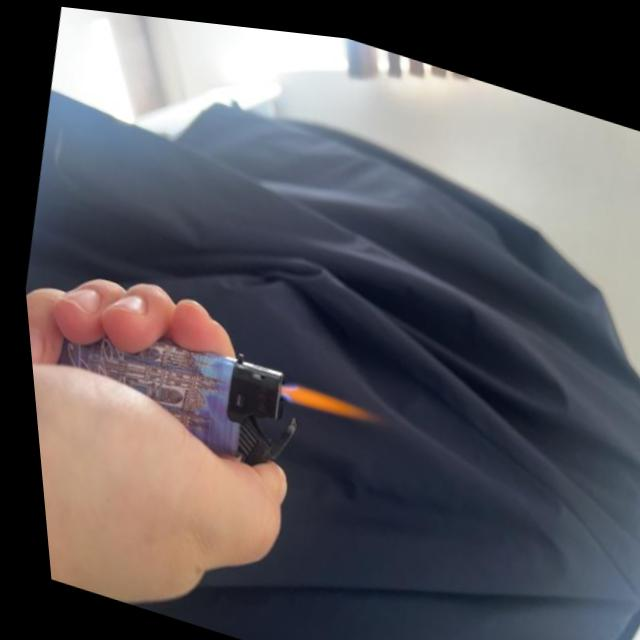Fire: (276, 369, 372, 423)
